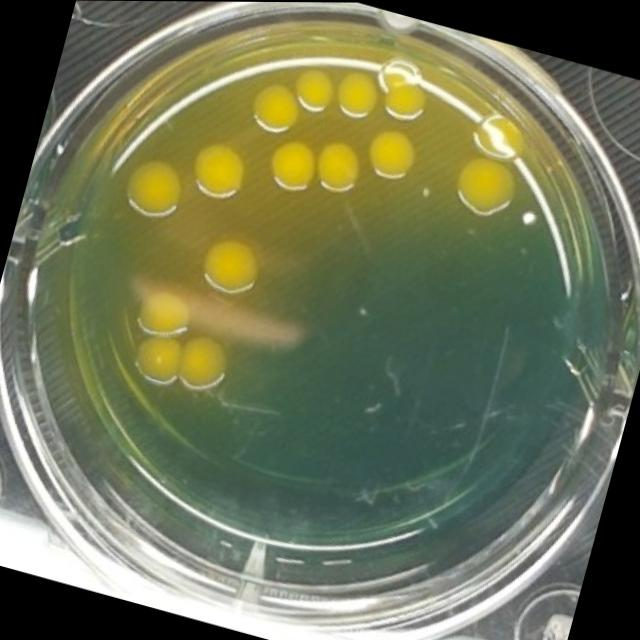vibrio: (445, 148, 522, 225), (182, 131, 255, 206), (117, 148, 189, 224), (195, 229, 268, 303), (369, 50, 438, 124), (170, 329, 238, 398), (240, 74, 306, 139), (358, 119, 422, 186), (128, 279, 194, 343), (464, 104, 530, 167), (324, 59, 385, 126), (259, 133, 322, 197), (308, 132, 367, 197), (126, 328, 187, 390), (284, 57, 344, 118)
